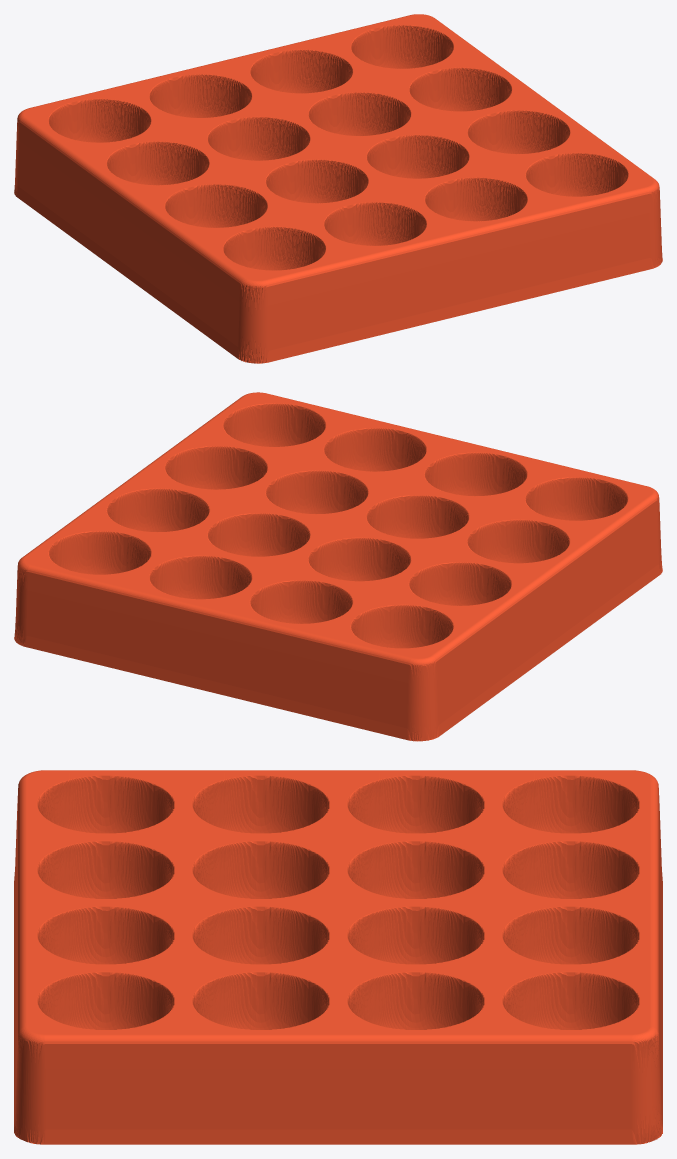
File: mold.glb
3 renders of one model, top to bottom at view 1: azimuth 30°, elevation 25°; view 2: azimuth 150°, elevation 25°; view 3: azimuth 270°, elevation 25°, orthographic. The views are drawn at different scales.
Parts seen in each view (by area): view 1: geometry_0; view 2: geometry_0; view 3: geometry_0.
Boxes of the visible parts, left/top/right/bottom form: geometry_0: left=14, top=14, right=662, bottom=363; geometry_0: left=14, top=392, right=662, bottom=741; geometry_0: left=14, top=770, right=662, bottom=1144.
Bounding box in the file's own units: 0.1856 × 0.0331 × 0.1856.
